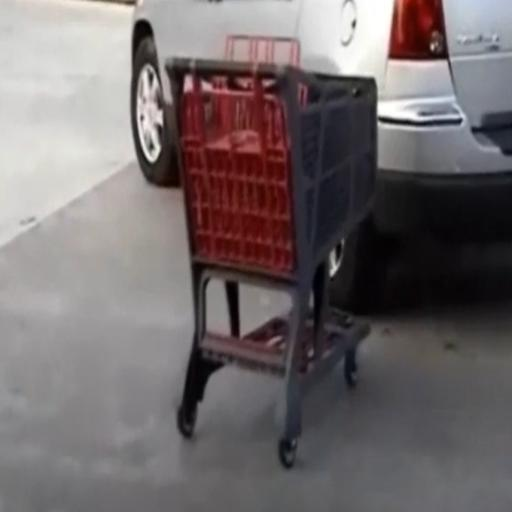shopping_cart: (163, 56, 380, 471)
